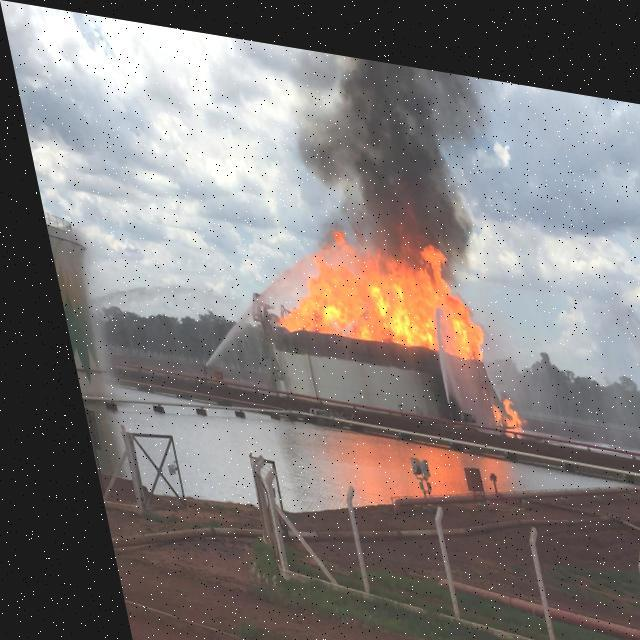Fire: (253, 215, 470, 347), (474, 385, 508, 419)
